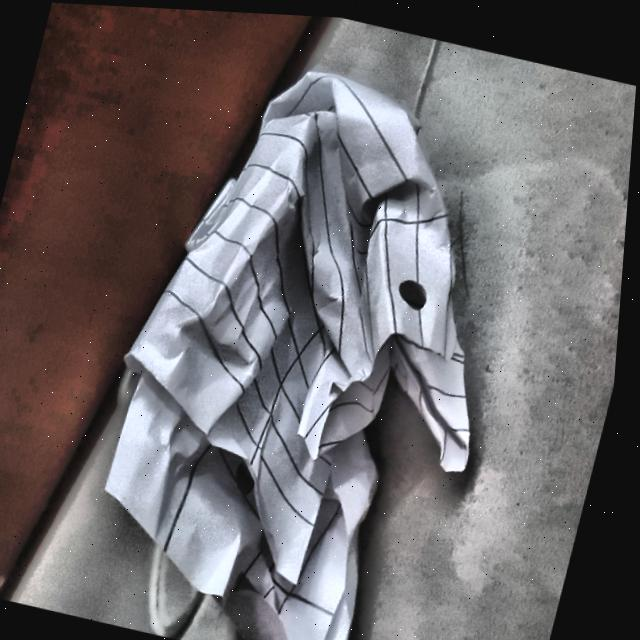paper: (63, 28, 562, 640)
